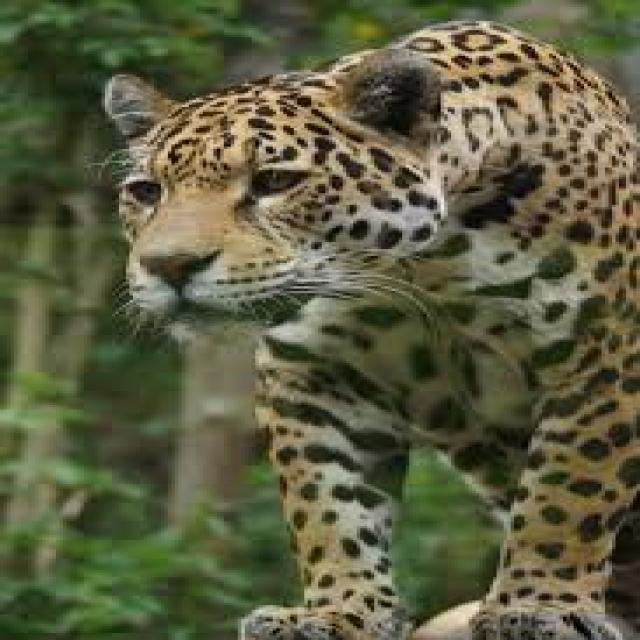Jaguar: (108, 16, 640, 640)
